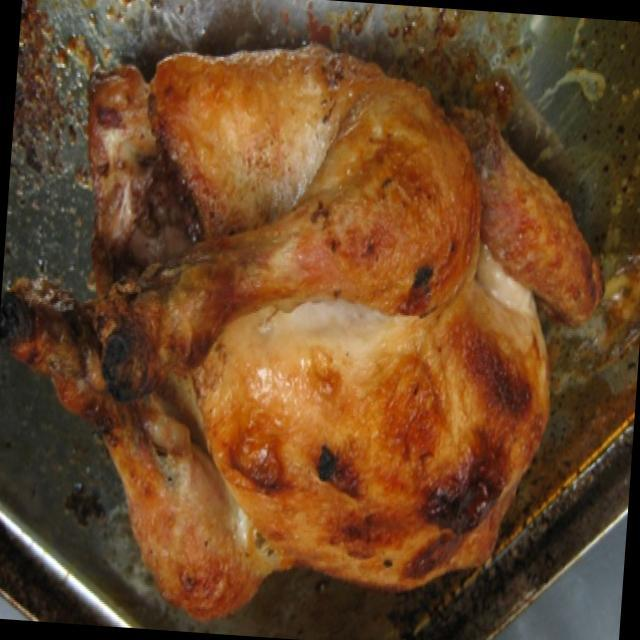Chicken: (51, 33, 614, 626)
